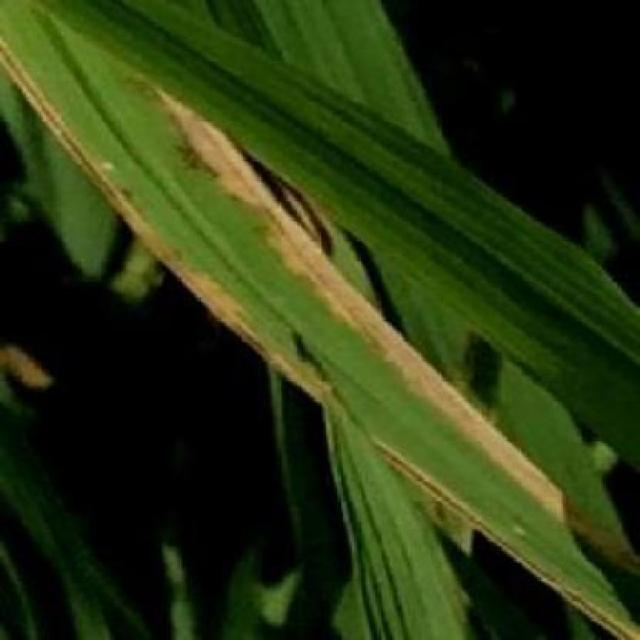Brown_Spot: (161, 121, 321, 361)
